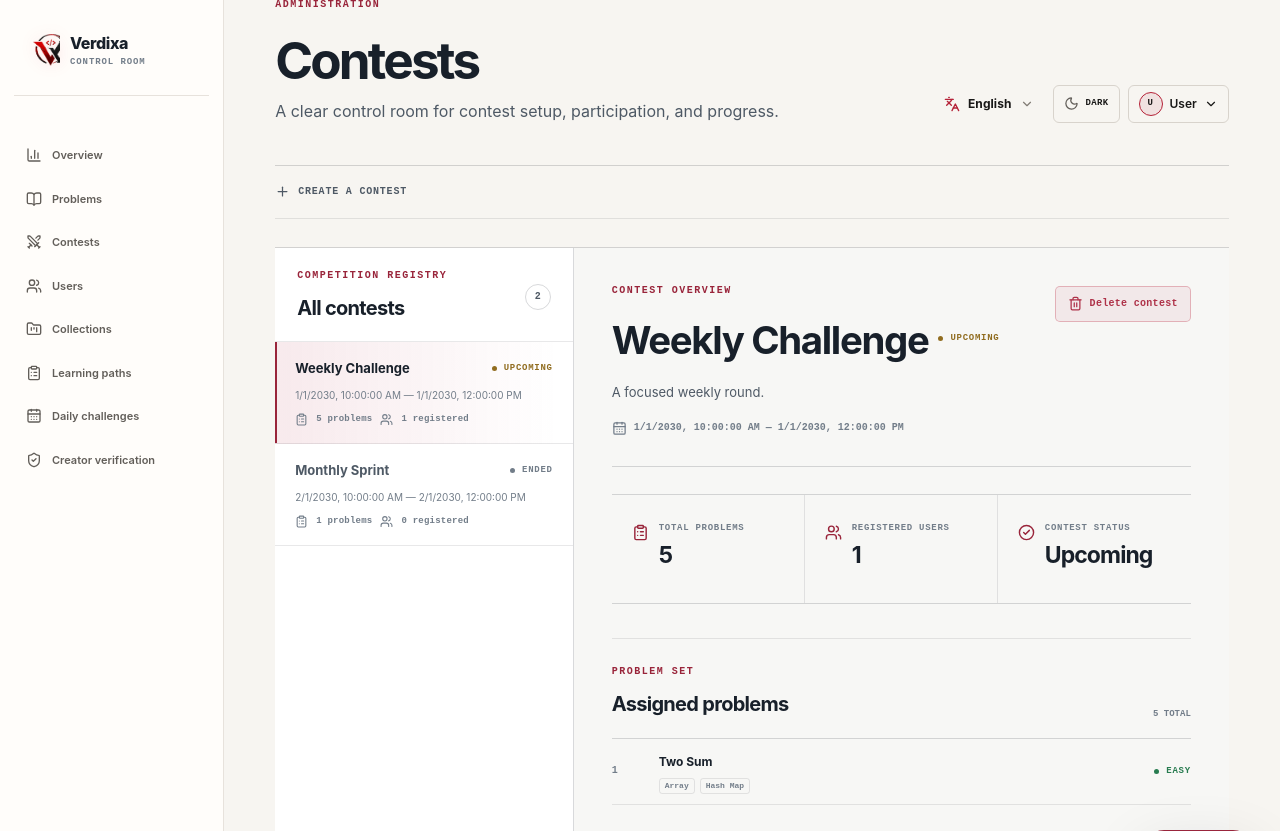
Scenario: deleting the selected contest updates list and selection
Expected: the text "A focused weekly round." is shown, [612,384,764,400]
Click the button "Delete contest" at (1123, 304), box [1055,286,1191,322]
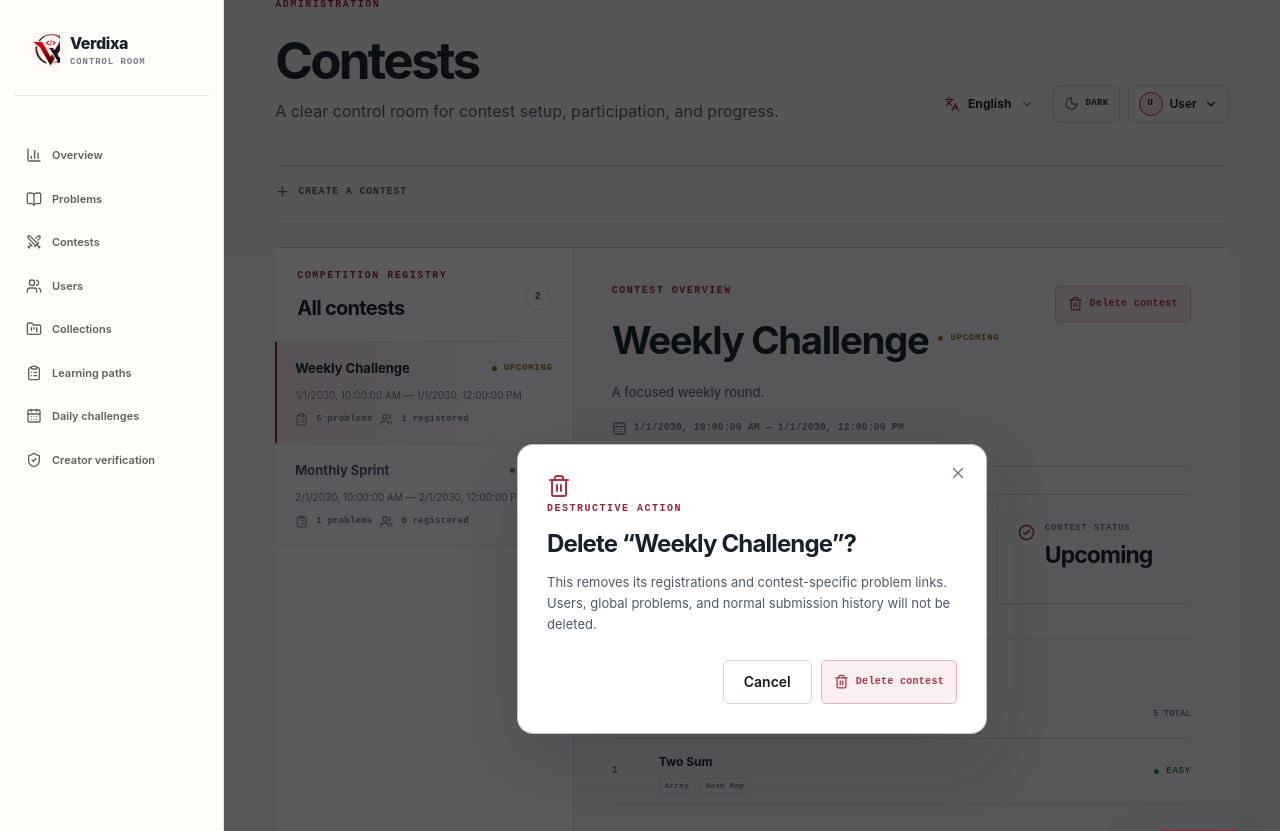
Click the button "Delete contest" at (889, 682), box [821,660,957,704]
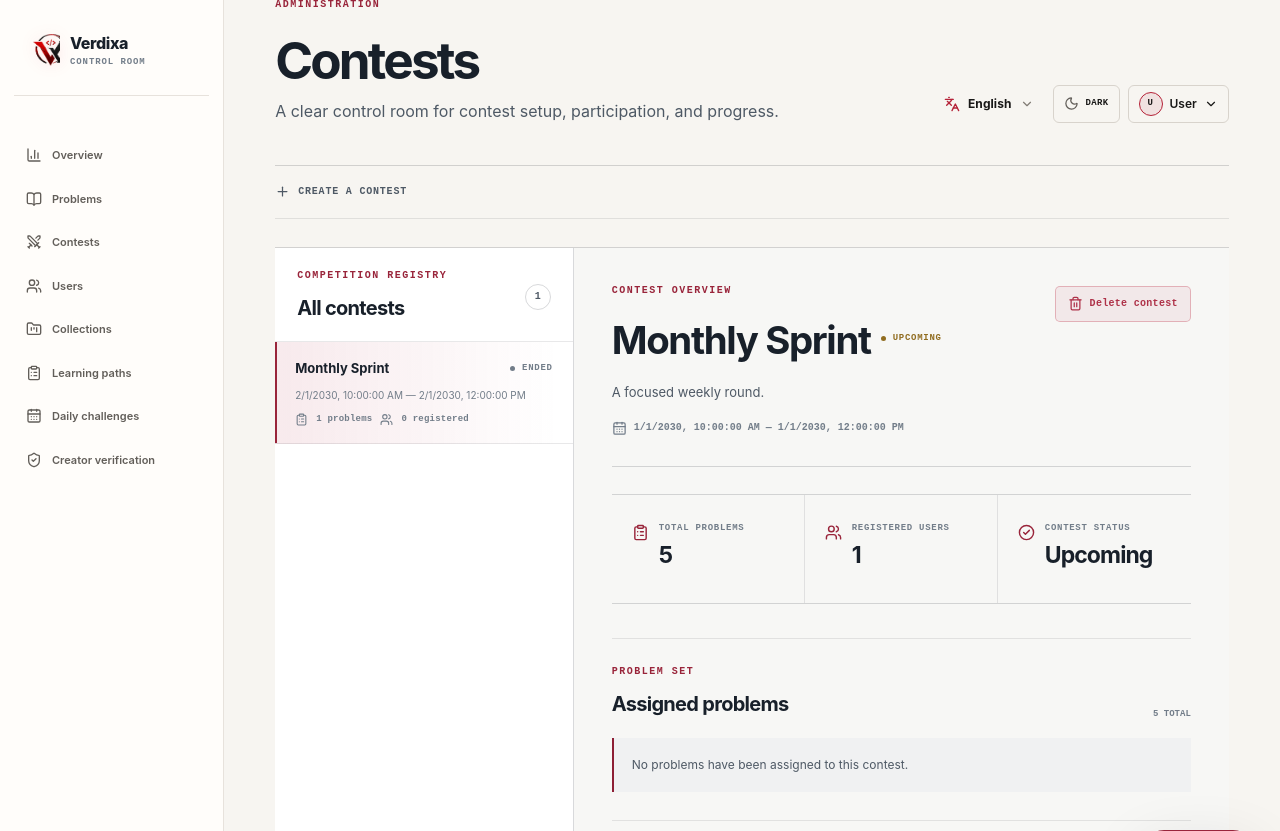
Now the list item "Weekly Challenge" is gone
